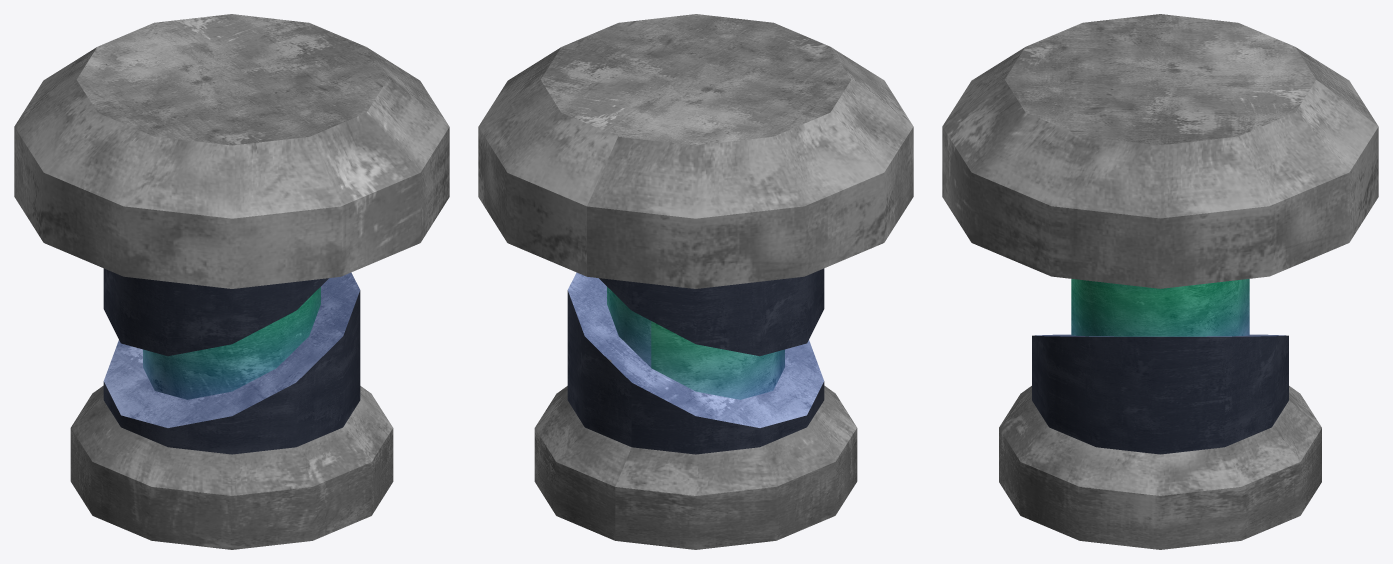
The model's file is standMesh00.fbx.
3 views of the same model, side by side, from view 1: azimuth 30°, elevation 25°; view 2: azimuth 150°, elevation 25°; view 3: azimuth 270°, elevation 25° (orthographic).
Visible parts, largest first — view 1: pPipe2; view 2: pPipe2; view 3: pPipe2.
Part boxes in pixels (x1,y1,x2,y2): pPipe2: (14, 14, 449, 549); pPipe2: (478, 14, 913, 549); pPipe2: (942, 14, 1378, 549).
Bounding box in the file's own units: 80.69 × 82.3 × 80.91.
